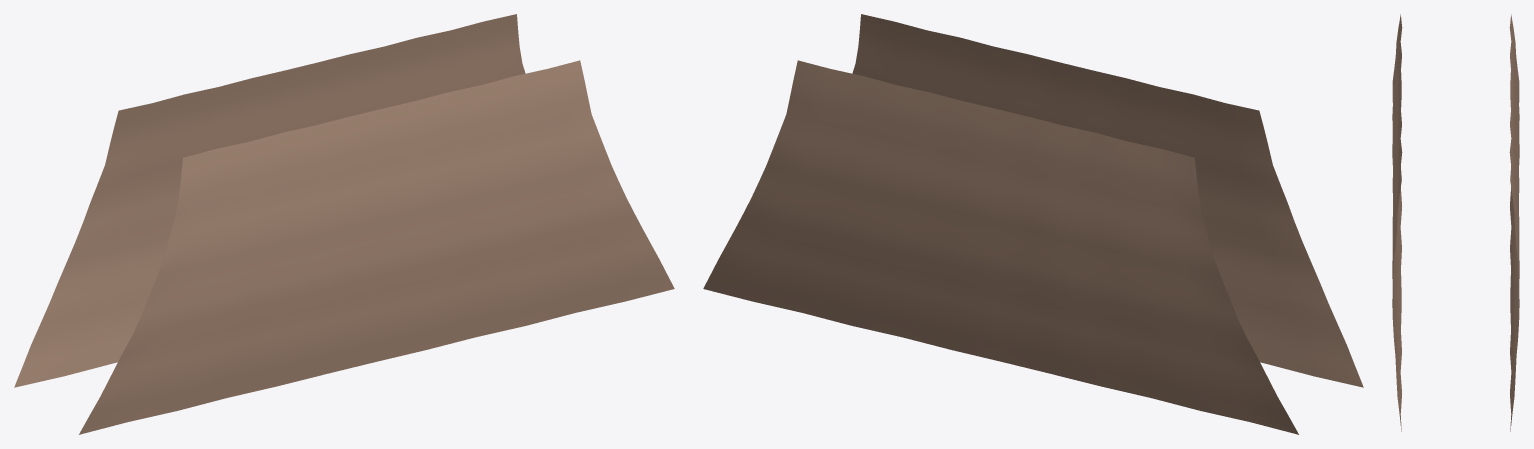
Rendered from fallback.glb.
3 renders of one model, left to right at view 1: azimuth 30°, elevation 25°; view 2: azimuth 150°, elevation 25°; view 3: azimuth 270°, elevation 25°, orthographic. The views are drawn at different scales.
Parts seen in each view (by area): view 1: simulation:clean:manual-skirt-03.front, simulation:clean:manual-skirt-03.back; view 2: simulation:clean:manual-skirt-03.back, simulation:clean:manual-skirt-03.front; view 3: simulation:clean:manual-skirt-03.front, simulation:clean:manual-skirt-03.back.
Part boxes in pixels (x1=…): simulation:clean:manual-skirt-03.front: x1=79, y1=60, x2=674, y2=434; simulation:clean:manual-skirt-03.back: x1=14, y1=14, x2=525, y2=387; simulation:clean:manual-skirt-03.back: x1=703, y1=60, x2=1298, y2=434; simulation:clean:manual-skirt-03.front: x1=852, y1=14, x2=1363, y2=387; simulation:clean:manual-skirt-03.front: x1=1392, y1=14, x2=1402, y2=431; simulation:clean:manual-skirt-03.back: x1=1509, y1=14, x2=1519, y2=431.
Size of the model in its own units: 1.34 by 0.54 by 0.2898.
